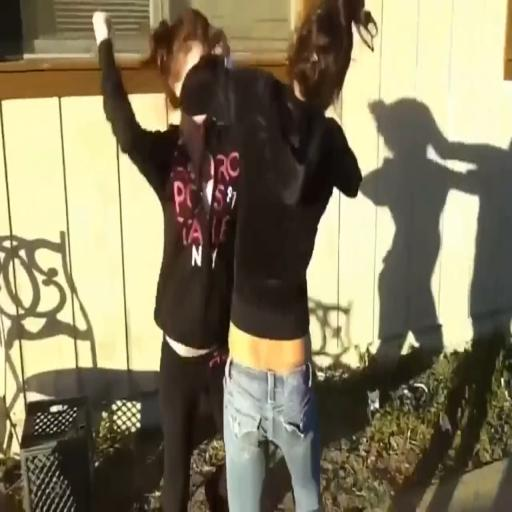violencia: (78, 0, 384, 512)
